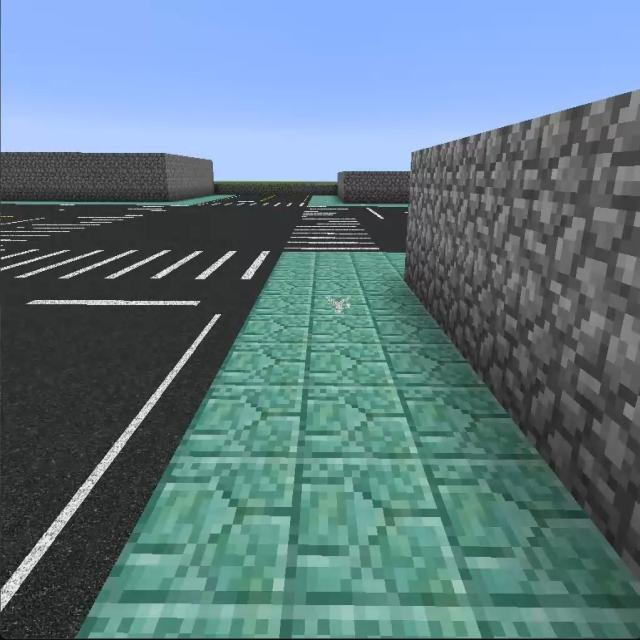crosswalk: (4, 241, 281, 291), (0, 208, 175, 251), (284, 206, 388, 249), (196, 197, 307, 213)
road: (6, 291, 254, 625), (44, 209, 301, 245), (361, 208, 405, 245)
sidewalk: (86, 249, 632, 630), (0, 195, 233, 206), (307, 195, 408, 208)
